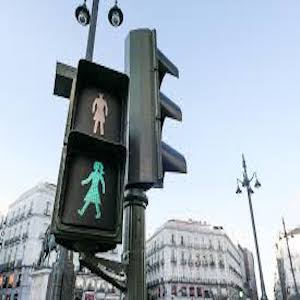green: (74, 156, 111, 225)
